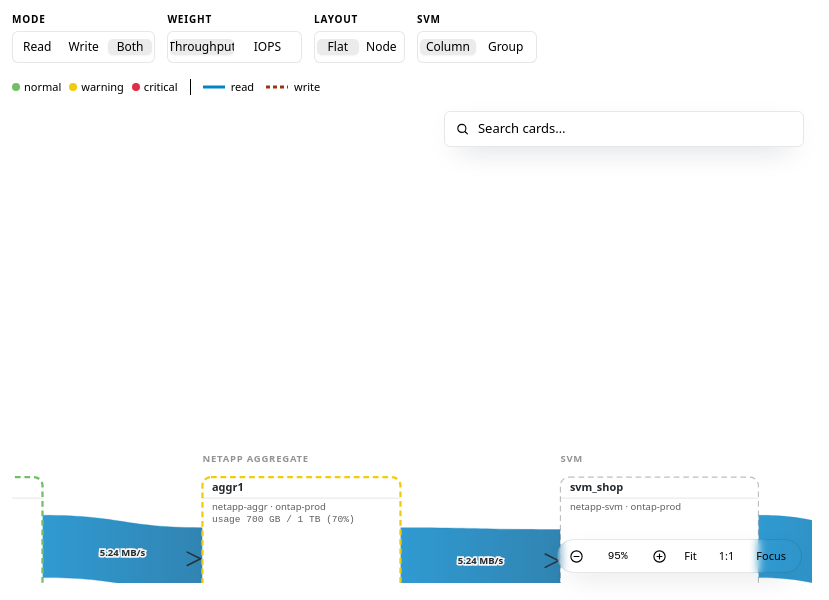
Test: SankeyView › returns the chart to 1:1 when the factor readout itself is clicked
expect the element with test id "sankey-zoom-controls" does not show "100%": met, box x1=557 y1=539 x2=802 y2=573
Click the button named "reset zoom to 1:1". click: (618, 556)
box: x1=592 y1=544 x2=643 y2=568
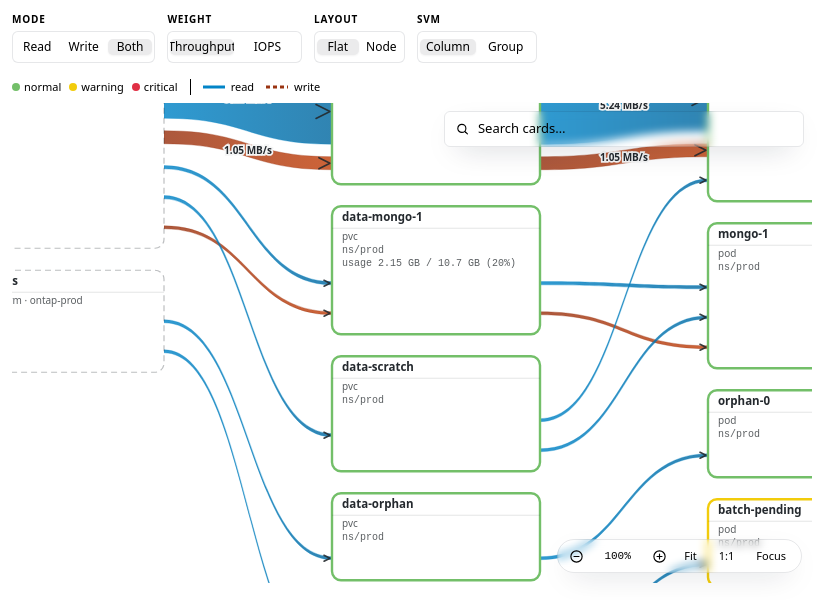
expect the element with test id "sankey-zoom-controls" shows "100%": met, box x1=557 y1=539 x2=802 y2=573
